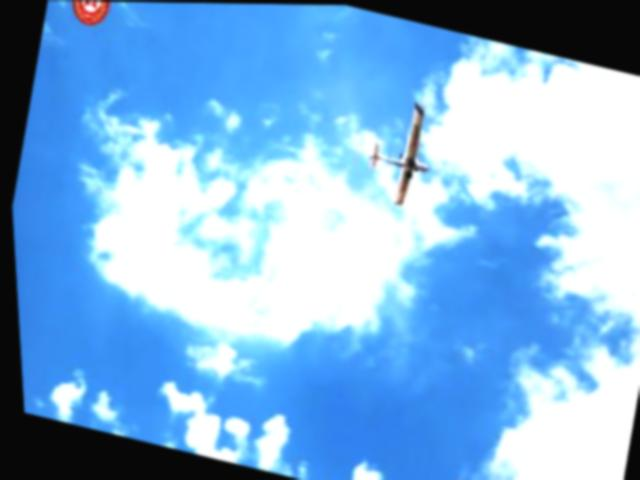uav: (353, 85, 446, 208)
